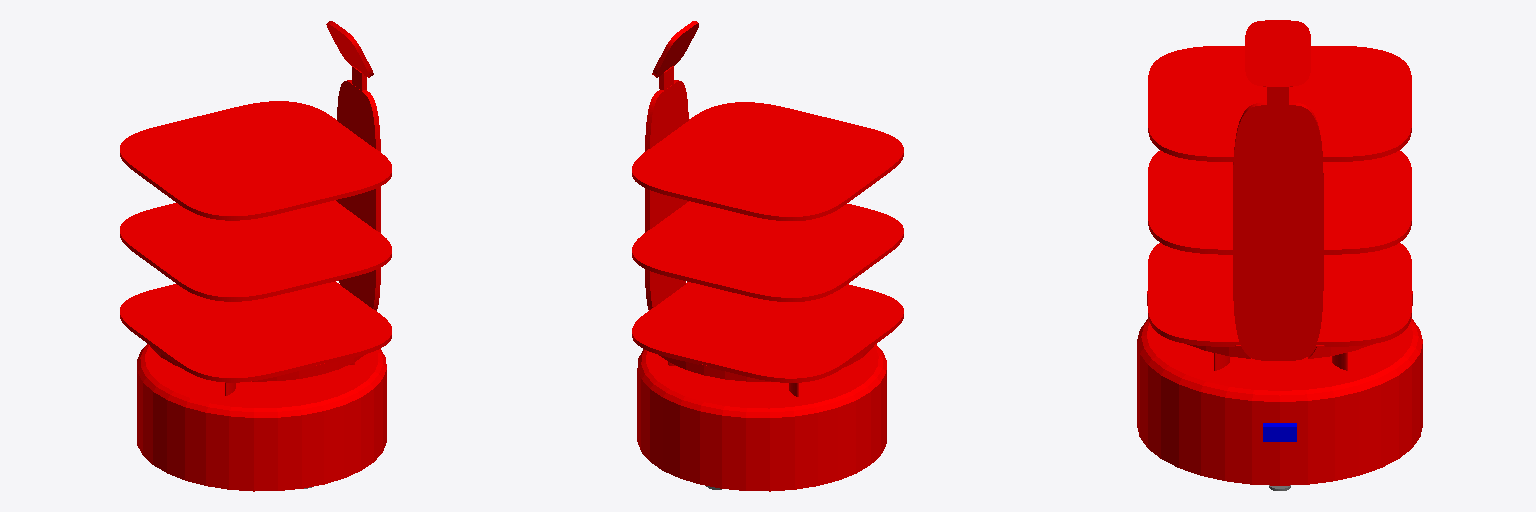
URDF robot description (dodo_model):
<?xml version="1.0"?>
<robot name="dodo_model" xmlns:xacro="http://www.ros.org/wiki/xacro">

  <link name="base_footprint"/>

  <link name="base_link">
    <inertial>
      <origin xyz="0.0 0.0 0.45" rpy="0.0 0.0 0.0"/>
      <mass value="15.0"/>
      <inertia ixx="1.266" ixy="0.0" ixz="0.0" iyy="1.266" iyz="0.0" izz="0.507"/>
    </inertial>
    <visual>
      <origin xyz="0 0 0" rpy="0 0 0"/>
      <geometry>
        <mesh filename="package://dodo_description/meshes/Cylinder.stl" scale="0.26 0.26 0.12844"/>
      </geometry>
      <material name="red">
        <color rgba="1.0 0.0 0.0 1.0"/>
      </material>
    </visual>
    <collision>
      <origin xyz="0.0 0.0 0.45" rpy="0.0 0.0 0.0"/>
      <geometry>
        <cylinder radius="0.27358" length="0.89942"/>
      </geometry>
    </collision>
  </link>

  <joint name="base_link_joint" type="fixed">
    <parent link="base_footprint"/>
    <child link="base_link"/>
    <origin xyz="0.0 0.0 0.035" rpy="0.0 0.0 0.0"/>
  </joint>

  <link name="lidar">
    <inertial>
      <mass value="0.1"/>
      <inertia ixx="0.001" ixy="0" ixz="0" iyy="0.001" iyz="0" izz="0.001"/>
    </inertial>
    <visual>
      <origin xyz="0.0 0.0 0.0" rpy="0.0 0.0 0.0"/>
      <geometry>
        <cylinder radius="0.03" length="0.03"/>
      </geometry>
      <material name="black">
        <color rgba="0.0 0.0 0.0 1.0"/>
      </material>
    </visual>
    <collision>
      <origin xyz="0.0 0.0 0.0" rpy="0.0 0.0 0.0"/>
      <geometry>
        <cylinder radius="0.03" length="0.03"/>
      </geometry>
    </collision>
  </link>

  <joint name="lidar_joint" type="fixed">
    <parent link="base_link"/>
    <child link="lidar"/>
    <origin xyz="0.0 0.0 0.2" rpy="0.0 0.0 0.0"/>
  </joint>

 
  <link name="oak_link">
    <inertial>
      <mass value="0.1"/>
      <inertia ixx="0.001" ixy="0" ixz="0" iyy="0.001" iyz="0" izz="0.001"/>
    </inertial>
    <visual>
      <origin xyz="0 0 0" rpy="0 0 0"/>
      <geometry>
        <box size="0.05 0.06 0.03"/>
      </geometry>
      <material name="blue">
        <color rgba="0.0 0.0 1.0 1.0"/>
      </material>
    </visual>
    <collision>
      <geometry>
        <box size="0.05 0.06 0.03"/>
      </geometry>
    </collision>
  </link>

  <joint name="oak_link_joint" type="fixed">
    <parent link="base_link"/>
    <child link="oak_link"/>
    <origin xyz="0.25 0.0 0.11" rpy="0.0 0.0 0.0"/>
  </joint>

  <link name="right_wheel">
    <inertial>
      <mass value="1.0"/>
      <inertia ixx="0.0008" ixy="0" ixz="0" iyy="0.0005" iyz="0" izz="0.001"/>
    </inertial>
    <visual>
      <origin xyz="0 0 0.005" rpy="0 0 0"/>
      <geometry>
        <cylinder radius="0.04" length="0.02"/>
      </geometry>
      <material name="gray">
        <color rgba="0.5 0.5 0.5 1.0"/>
      </material>
    </visual>
    <collision>
      <origin xyz="0 0 0.005" rpy="0 0 0"/>
      <geometry>
        <cylinder radius="0.04" length="0.02"/>
      </geometry>
    </collision>
  </link>

  <joint name="right_wheel_joint" type="continuous">
    <parent link="base_link"/>
    <child link="right_wheel"/>
    <origin xyz="0 -0.19 0.005" rpy="-1.6 0 0"/>
    <axis xyz="0 0 1"/>
    <dynamics damping="0.1" friction="0.1"/>
  </joint>

  <link name="left_wheel">
    <inertial>
      <mass value="1.0"/>
      <inertia ixx="0.0008" ixy="0" ixz="0" iyy="0.0005" iyz="0" izz="0.001"/>
    </inertial>
    <visual>
      <origin xyz="0 0 0.005" rpy="0 0 0"/>
      <geometry>
        <cylinder radius="0.04" length="0.02"/>
      </geometry>
      <material name="gray">
        <color rgba="0.5 0.5 0.5 1.0"/>
      </material>
    </visual>
    <collision>
      <origin xyz="0 0 0.005" rpy="0 0 0"/>
      <geometry>
        <cylinder radius="0.04" length="0.02"/>
      </geometry>
    </collision>
  </link>

  <joint name="left_wheel_joint" type="continuous">
    <parent link="base_link"/>
    <child link="left_wheel"/>
    <origin xyz="0 0.19 0.005" rpy="-1.6 0 0"/>
    <axis xyz="0 0 1"/>
    <dynamics damping="0.1" friction="0.1"/>
  </joint>

  <link name="front_support">
    <inertial>
      <mass value="0.05"/>
      <inertia ixx="0.00001" ixy="0" ixz="0" iyy="0.00001" iyz="0" izz="0.00002"/>
    </inertial>
    <visual>
      <origin xyz="0 0 -0.01" rpy="0 0 0"/>
      <geometry>
        <cylinder radius="0.02" length="0.005"/>
      </geometry>
      <material name="gray">
        <color rgba="0.5 0.5 0.5 1.0"/>
      </material>
    </visual>
    <collision>
      <origin xyz="0 0 -0.01" rpy="0 0 0"/>
      <geometry>
        <cylinder radius="0.02" length="0.005"/>
      </geometry>
    </collision>
  </link>

  <joint name="front_support_joint" type="fixed">
    <parent link="base_link"/>
    <child link="front_support"/>
    <origin xyz="0.19276 0 -0.021" rpy="0 0 0"/>
  </joint>

  <link name="back_support">
    <inertial>
      <mass value="0.05"/>
      <inertia ixx="0.00001" ixy="0" ixz="0" iyy="0.00001" iyz="0" izz="0.00002"/>
    </inertial>
    <visual>
      <origin xyz="0 0 -0.01" rpy="0 0 0"/>
      <geometry>
        <cylinder radius="0.02" length="0.005"/>
      </geometry>
      <material name="gray">
        <color rgba="0.5 0.5 0.5 1.0"/>
      </material>
    </visual>
    <collision>
      <origin xyz="0 0 -0.01" rpy="0 0 0"/>
      <geometry>
        <cylinder radius="0.02" length="0.005"/>
      </geometry>
    </collision>
  </link>

  <joint name="back_support_joint" type="fixed">
    <parent link="base_link"/>
    <child link="back_support"/>
    <origin xyz="-0.19276 0 -0.021" rpy="0 0 0"/>
  </joint>

  <gazebo>
    <plugin name="differential_drive_controller" filename="libgazebo_ros_diff_drive.so">
      <left_joint>left_wheel_joint</left_joint>
      <right_joint>right_wheel_joint</right_joint>
      <wheel_separation>0.38</wheel_separation>
      <wheel_diameter>0.08</wheel_diameter>
      <max_wheel_torque>6</max_wheel_torque>
      <command_topic>/cmd_vel</command_topic>
      <odometry_topic>/odom</odometry_topic>
      <odometry_frame>odom</odometry_frame>
      <robot_base_frame>base_footprint</robot_base_frame>
      <publish_odom>true</publish_odom>
      <publish_odom_tf>true</publish_odom_tf>
      <publish_wheel_tf>true</publish_wheel_tf>
      <publish_wheel_joint_state>true</publish_wheel_joint_state>
      <transform_publish_period>0.02</transform_publish_period>
    </plugin>
  </gazebo>

  <gazebo reference="lidar">
    <sensor type="ray" name="lidar_sensor">
      <pose>0 0 0 0 0 0</pose>
      <update_rate>50</update_rate>
      <visualize>true</visualize>
      <ray>
        <scan>
          <horizontal>
            <samples>720</samples>
            <resolution>1</resolution>
            <min_angle>-1.5708</min_angle>
            <max_angle>1.5708</max_angle>
          </horizontal>
        </scan>
        <range>
          <min>0.3</min>
          <max>4.0</max>
          <resolution>0.01</resolution>
        </range>
        <noise>
          <type>gaussian</type>
          <mean>0.0</mean>
          <stddev>0.01</stddev>
        </noise>
      </ray>
      <plugin name="gazebo_ros_ray_sensor" filename="libgazebo_ros_ray_sensor.so">
        <ros>
          <remapping>~/out:=scan</remapping>
        </ros>
        <frameName>lidar</frameName>
        <output_type>sensor_msgs/LaserScan</output_type>
      </plugin>
    </sensor>
  </gazebo>

</robot>

--- Render facts (derived) ---
Views: 3 orthographic renders of the robot side by side, from view 1: azimuth 30°, elevation 25°; view 2: azimuth 150°, elevation 25°; view 3: azimuth 270°, elevation 25°.
Robot: dodo_model — 8 links, 7 joints (2 continuous, 5 fixed); root link base_footprint; default pose: every joint at zero.
Links seen in each view (by area): view 1: base_link; view 2: base_link; view 3: base_link, oak_link.
Link boxes in pixels (x1=…): base_link: x1=120, y1=21, x2=391, y2=491; base_link: x1=632, y1=21, x2=903, y2=491; base_link: x1=1137, y1=20, x2=1422, y2=485; oak_link: x1=1263, y1=423, x2=1296, y2=441.
Size in the robot's own frame: 0.535 by 0.52 by 0.9346 metres.
Meshes: 1 distinct files referenced, 1 mesh visuals loaded (1 binary STL).
